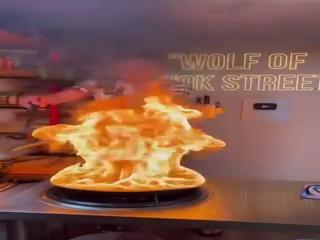Fire: (32, 61, 210, 194)
